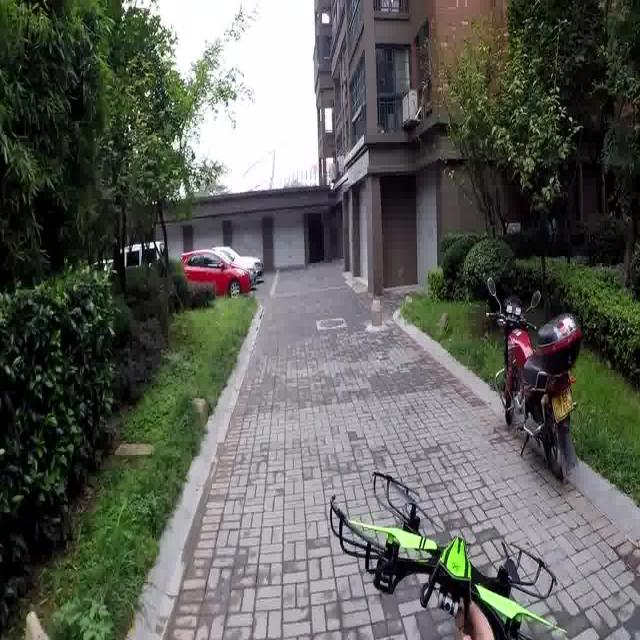drones: (325, 461, 561, 631)
